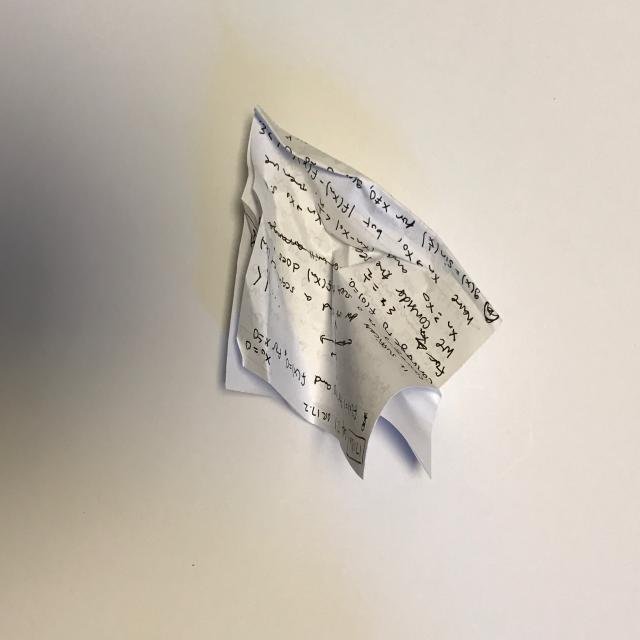paper: (200, 91, 510, 493)
